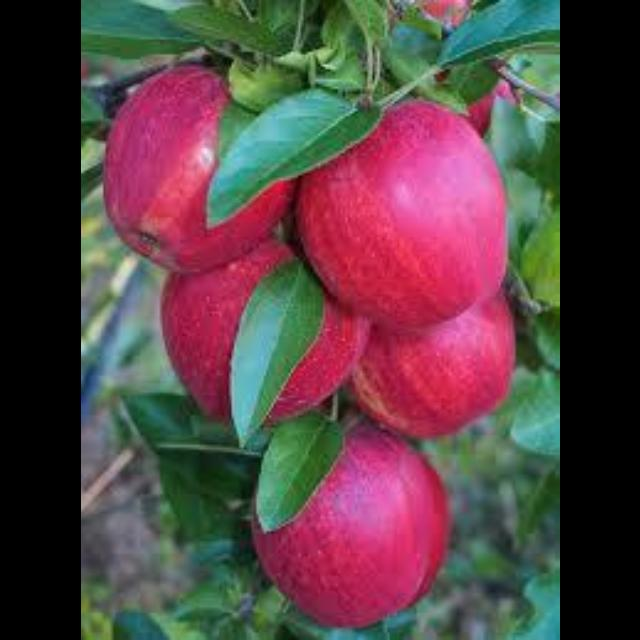apple: (295, 99, 505, 326), (251, 420, 448, 625), (102, 64, 293, 269), (349, 289, 512, 437), (162, 240, 290, 420), (268, 299, 364, 418)
